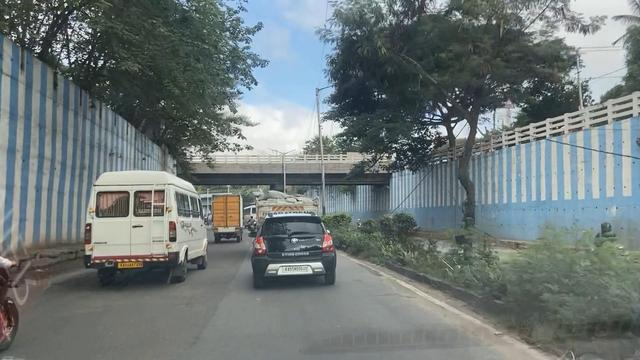HMV: (85, 170, 207, 285), (212, 196, 242, 241)
LMV: (252, 214, 336, 288)
